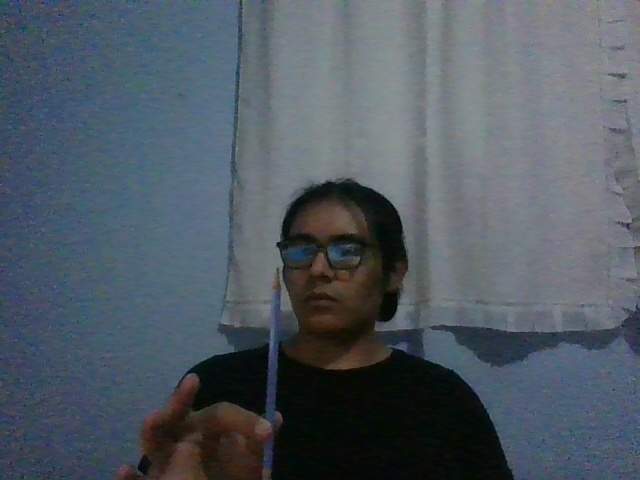lapiz: (261, 268, 282, 480)
